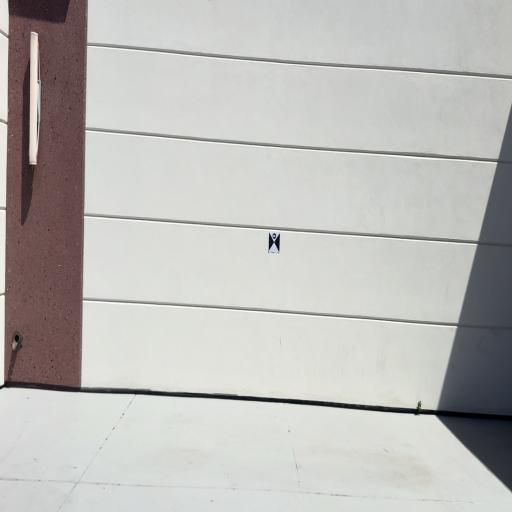target0: (269, 231, 280, 253)
